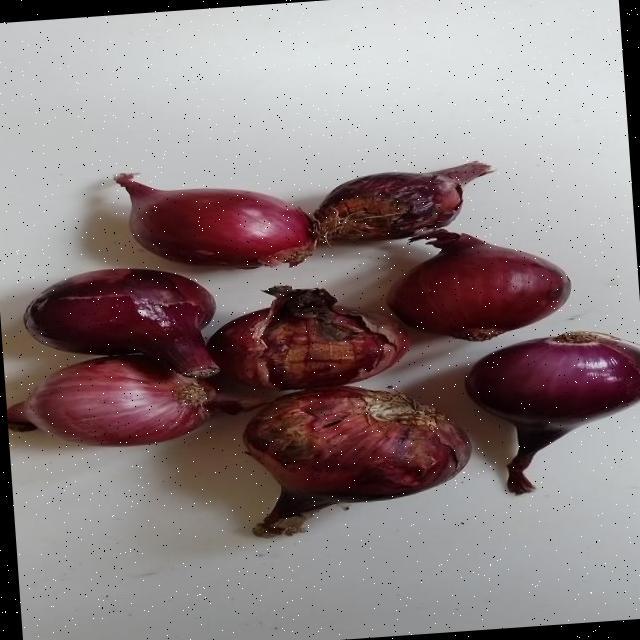Onion: (241, 385, 470, 536), (464, 331, 640, 494), (205, 286, 408, 389), (21, 269, 215, 375), (386, 231, 569, 340), (113, 172, 313, 267), (5, 355, 213, 445), (310, 161, 491, 243)
